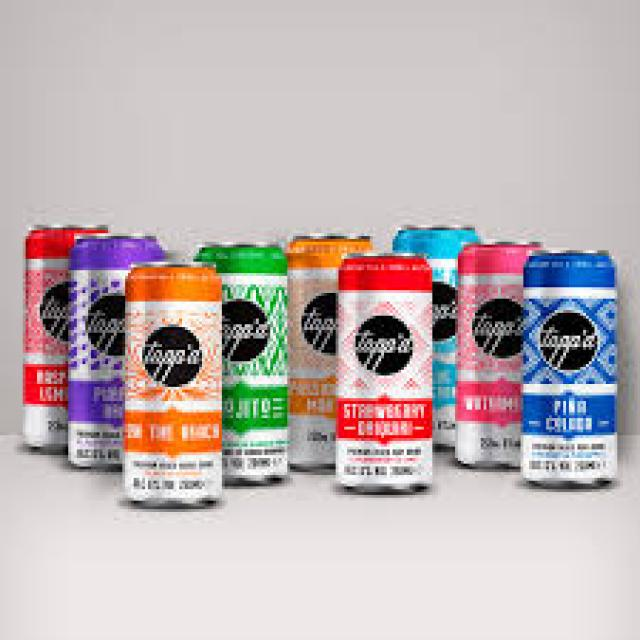Cans: (117, 256, 233, 521), (324, 250, 444, 498), (506, 245, 626, 492)
